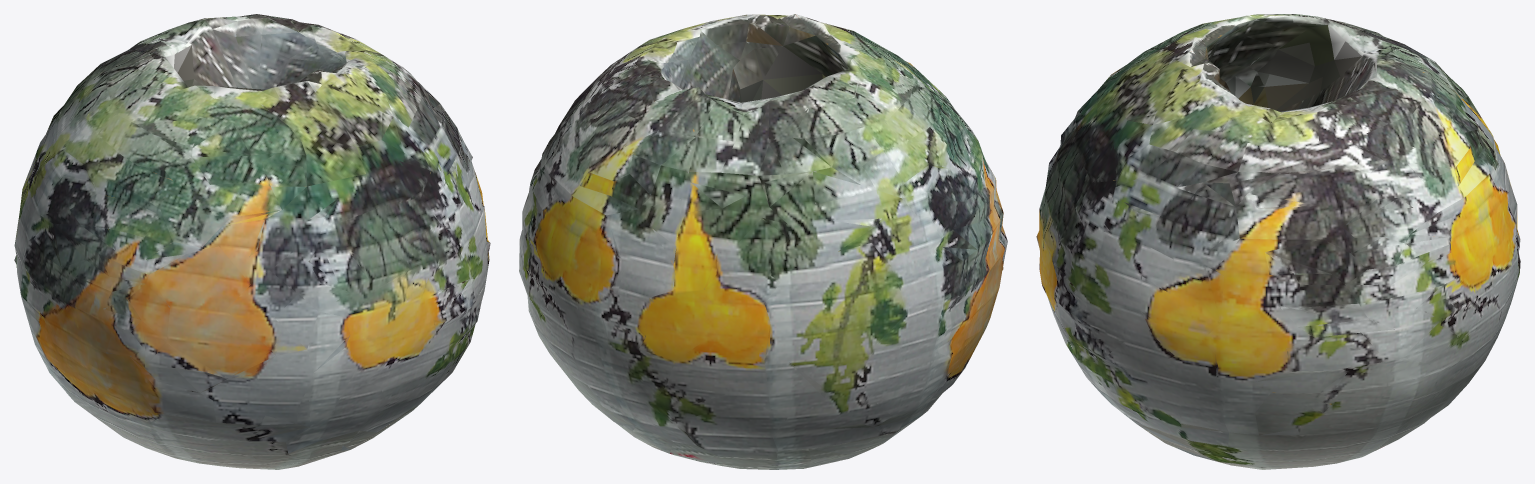
Rendered from AH1 Rolex Squash2.glb.
3 renders of one model, left to right at view 1: azimuth 30°, elevation 25°; view 2: azimuth 150°, elevation 25°; view 3: azimuth 270°, elevation 25°, orthographic.
Bounding box in the file's own units: 996 × 909 × 1000.
1 material, 1 textured.
